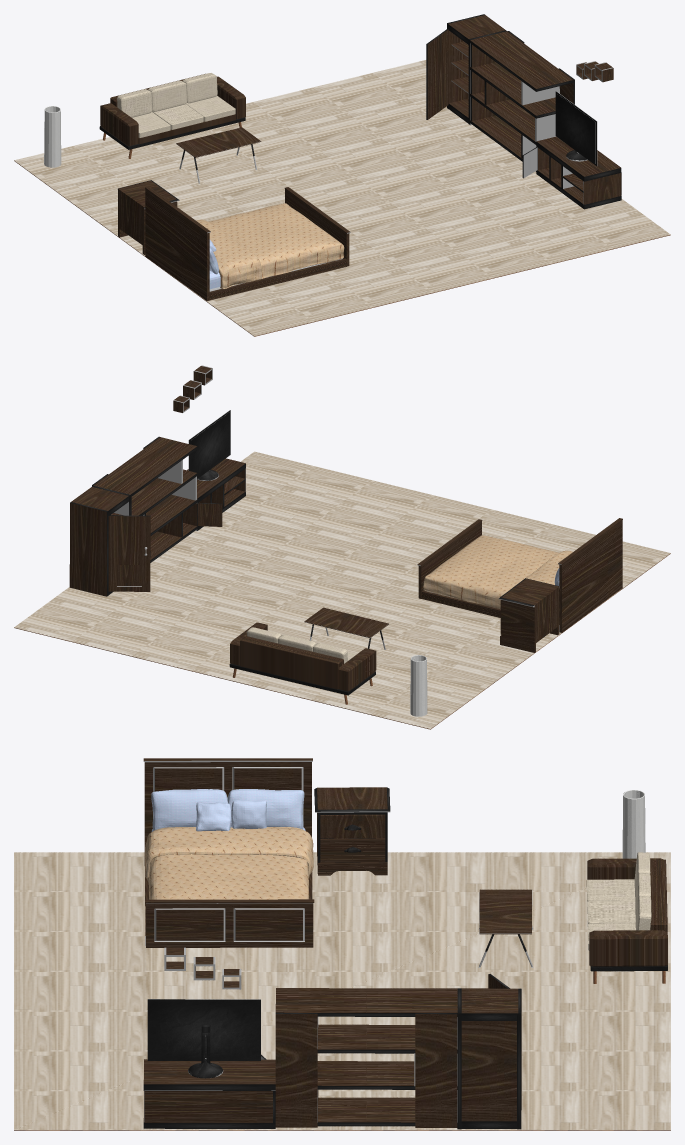
File: T1 Set 2 Pos 4.glb
The picture shows the model from 3 angles, top to bottom: view 1: azimuth 30°, elevation 25°; view 2: azimuth 150°, elevation 25°; view 3: azimuth 270°, elevation 25°; orthographic projection. The views are drawn at different scales.
Size of the model in its own units: 0.2923 by 0.0855 by 0.292.
10 materials, 9 textured.
